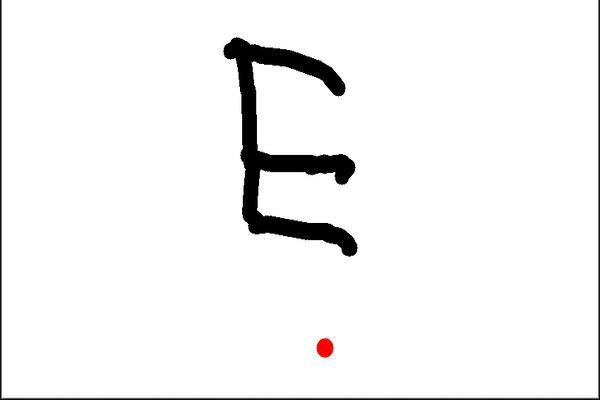E: (220, 31, 366, 264)
